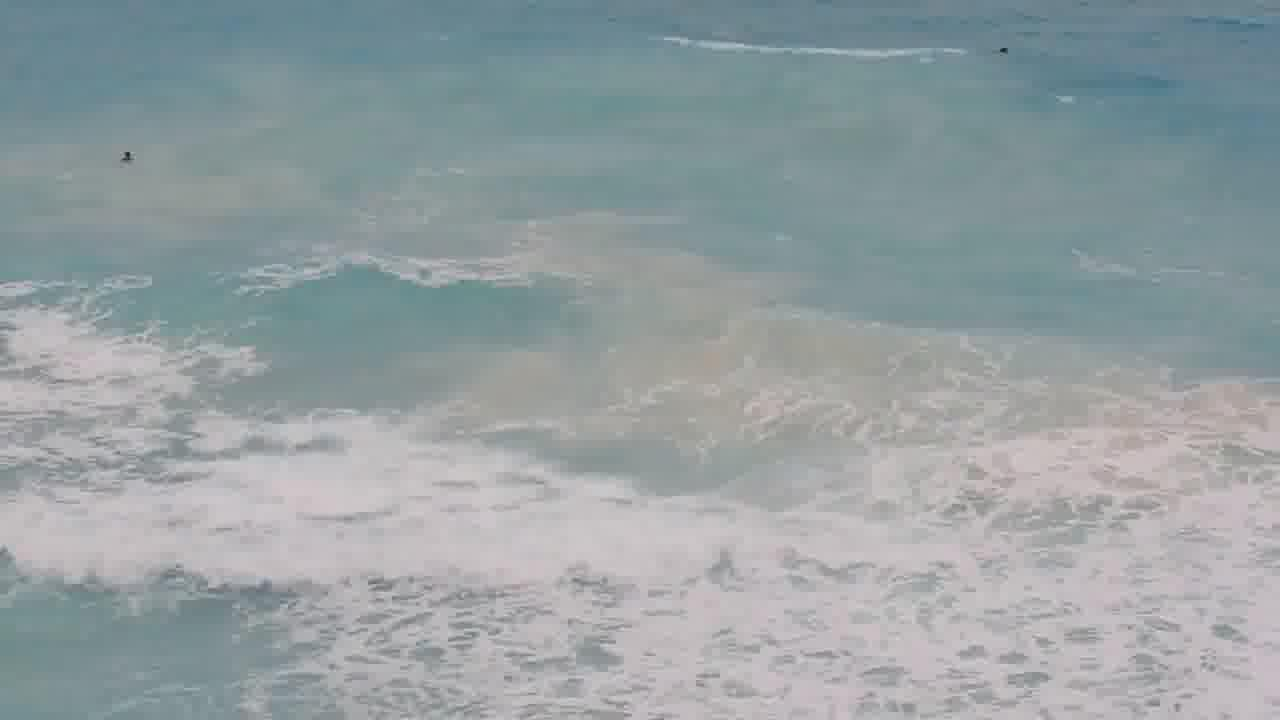swimmer: (108, 139, 148, 177), (986, 45, 1019, 63)
